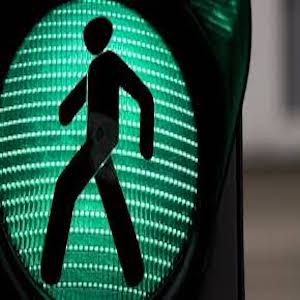green: (44, 16, 166, 283)
